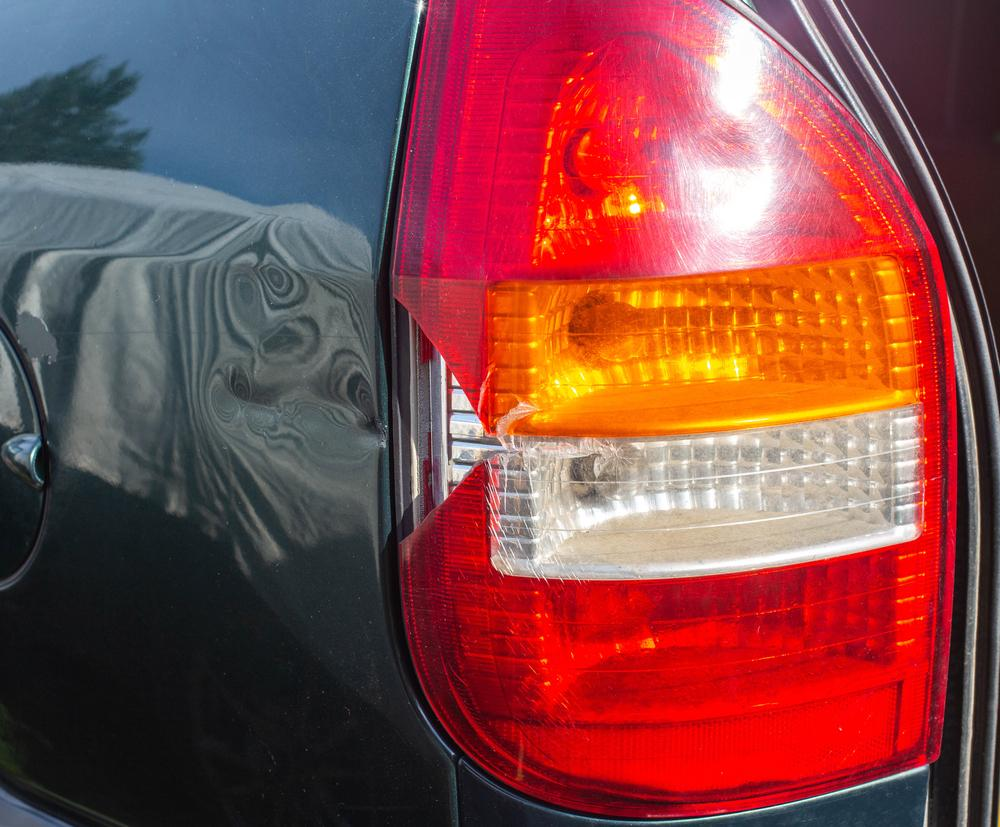dent: (214, 229, 374, 475)
lamp broken: (388, 0, 958, 823)
